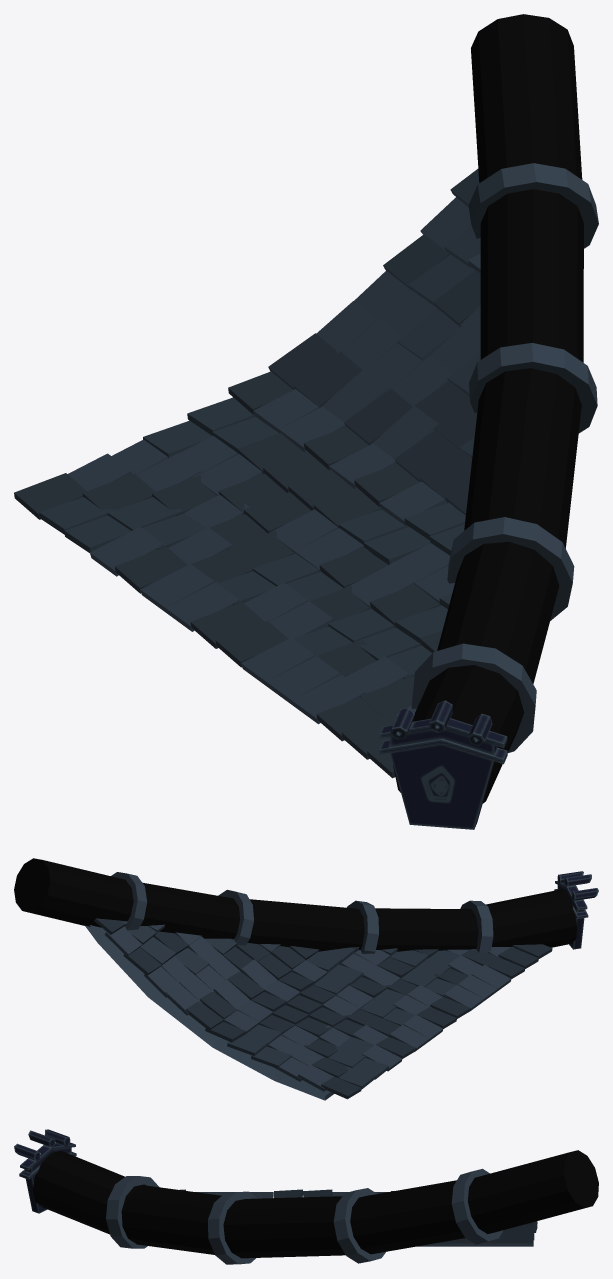
Rendered from Roof_Tile09_JP.fbx.
The picture shows the model from 3 angles, top to bottom: view 1: azimuth 30°, elevation 25°; view 2: azimuth 150°, elevation 25°; view 3: azimuth 270°, elevation 25°; orthographic projection. The views are drawn at different scales.
Visible parts, largest first — view 1: Roof_Tile09_JP_LOD0; view 2: Roof_Tile09_JP_LOD0; view 3: Roof_Tile09_JP_LOD0.
Boxes of the visible parts, x1,y1,x2,y2 form: Roof_Tile09_JP_LOD0: (14, 14, 598, 829); Roof_Tile09_JP_LOD0: (14, 858, 598, 1100); Roof_Tile09_JP_LOD0: (14, 1129, 598, 1264).
Size of what is drawn, in the model's own units: 630 by 353 by 873.
